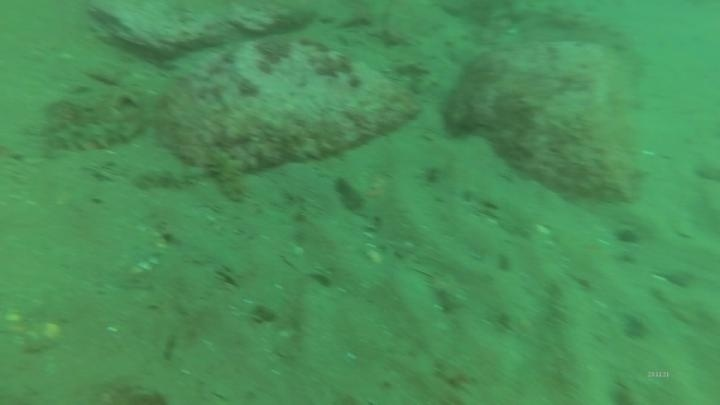holothurian: (41, 110, 146, 156), (205, 148, 252, 206), (133, 163, 211, 194)
